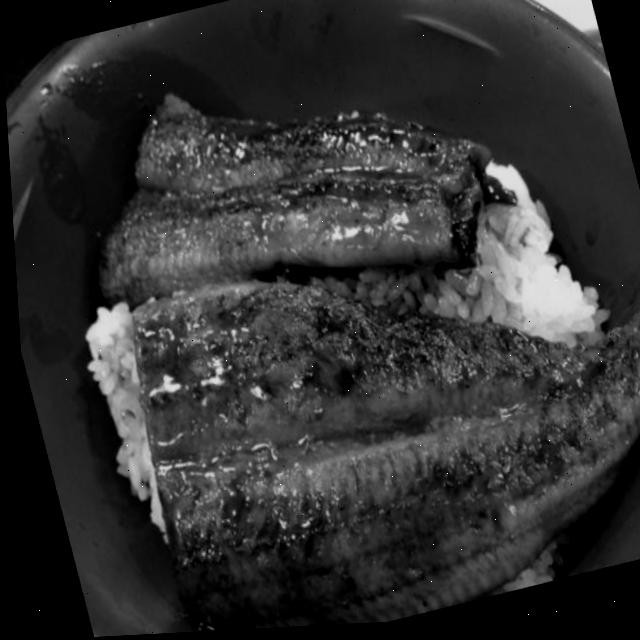汤锅炖物: (258, 0, 471, 228)
米饭主食: (74, 362, 390, 638)
蔬菜料理: (68, 66, 338, 380)
